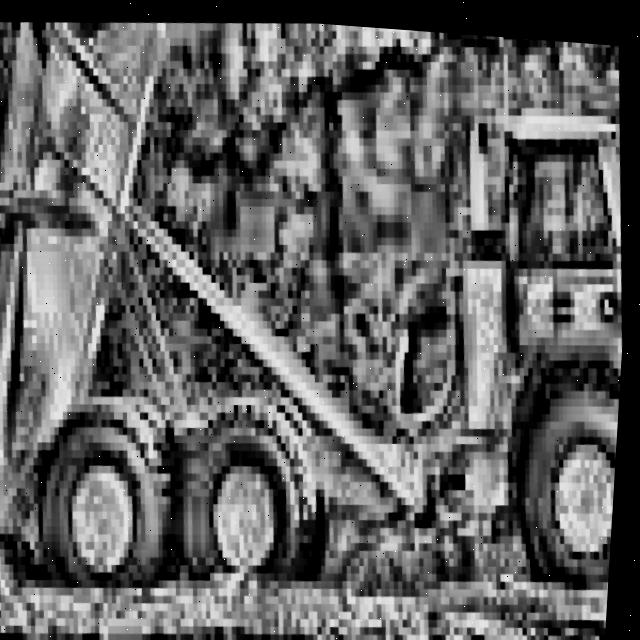dump_truck: (0, 0, 640, 614)
